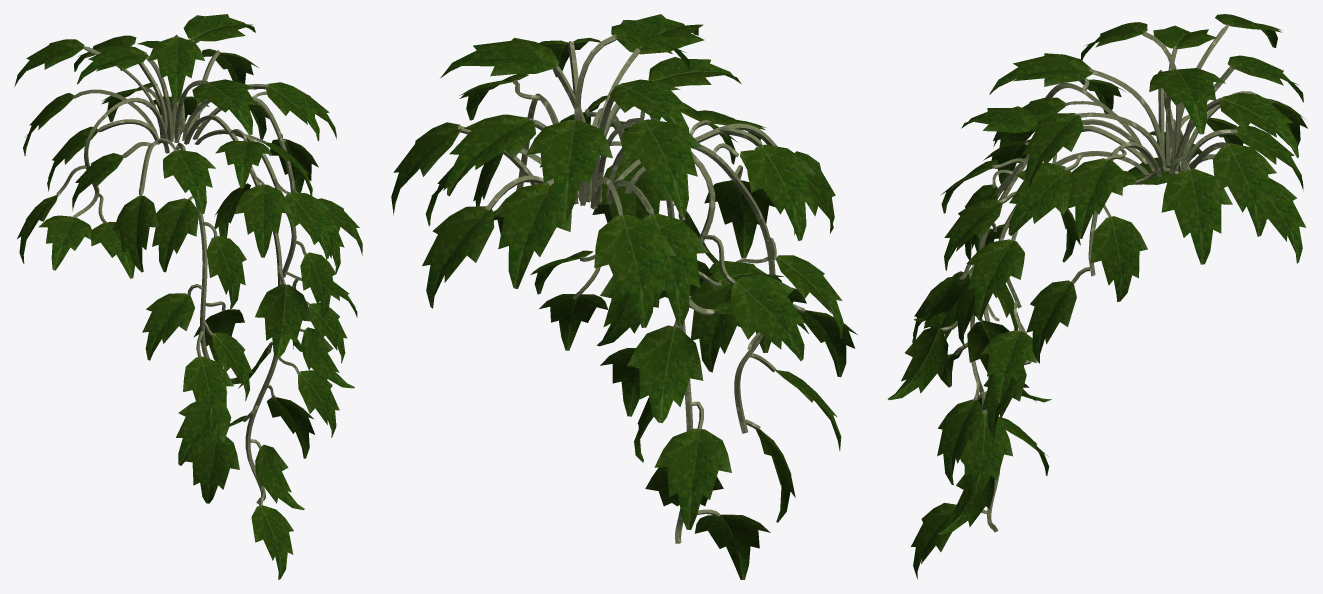
The model's file is Plant_F.fbx.
The picture shows the model from 3 angles, left to right: view 1: azimuth 30°, elevation 25°; view 2: azimuth 150°, elevation 25°; view 3: azimuth 270°, elevation 25°; orthographic projection. The views are drawn at different scales.
Visible parts, largest first — view 1: Plant_FFF1, Plant_FFF2; view 2: Plant_FFF1, Plant_FFF2; view 3: Plant_FFF1, Plant_FFF2.
Boxes of the visible parts, x1,y1,x2,y2 form: Plant_FFF1: [14, 14, 362, 272]; Plant_FFF2: [38, 137, 357, 579]; Plant_FFF1: [391, 14, 835, 360]; Plant_FFF2: [493, 119, 857, 579]; Plant_FFF1: [940, 14, 1307, 320]; Plant_FFF2: [888, 155, 1182, 579].
Size of the model in its own units: 0.2825 by 0.4554 by 0.3187.
